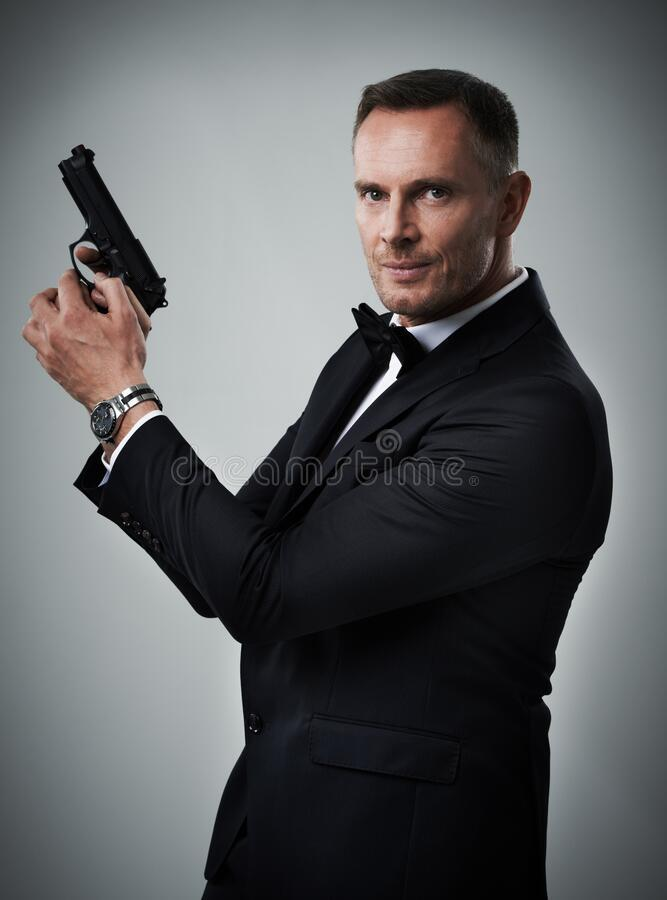criminal: (20, 64, 616, 900)
weapon: (46, 136, 175, 327)
